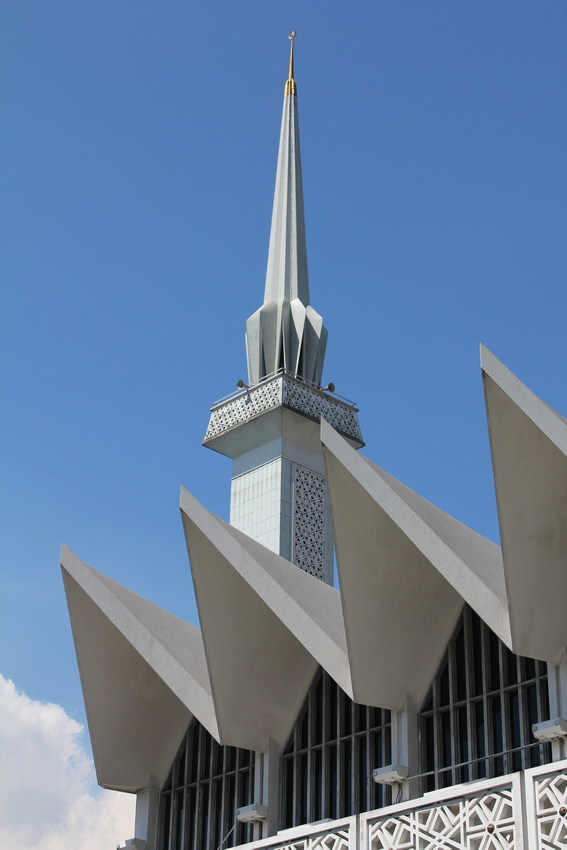Mosque: (217, 34, 337, 418)
